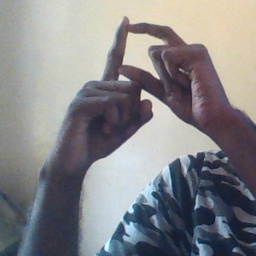D: (82, 13, 209, 121)
